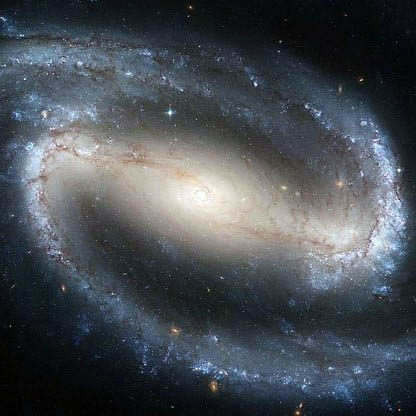NGC 1300: (6, 12, 414, 403)
